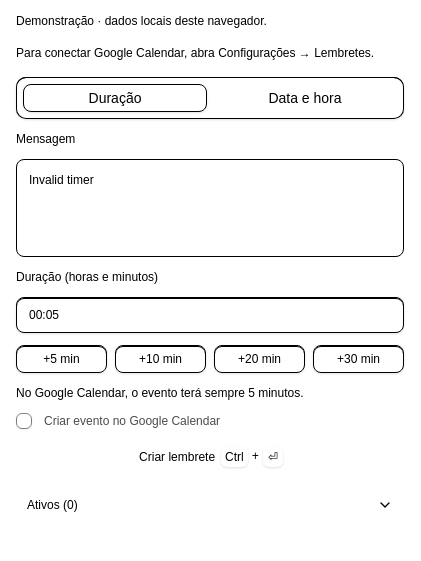
Test: rejects invalid duration  before persistence
Clear the field labelled "Duração (horas e minutos)" at (210, 315), box [16, 297, 404, 333]
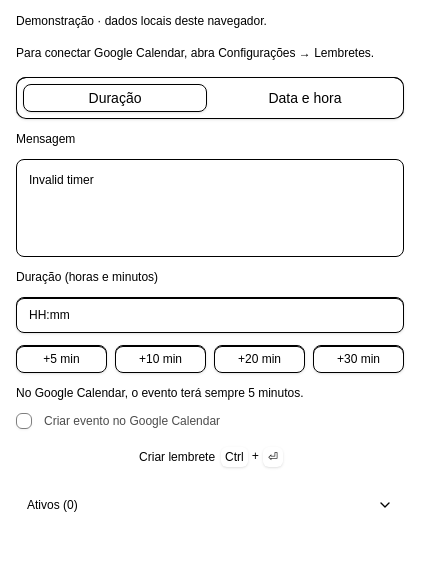
Submit the form
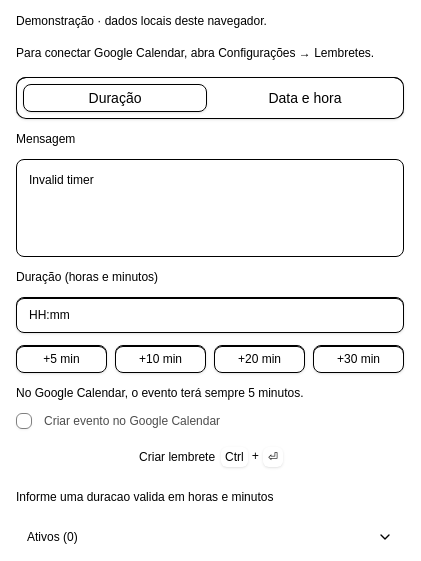
Now the message shows "Informe", box [16, 490, 274, 504]
